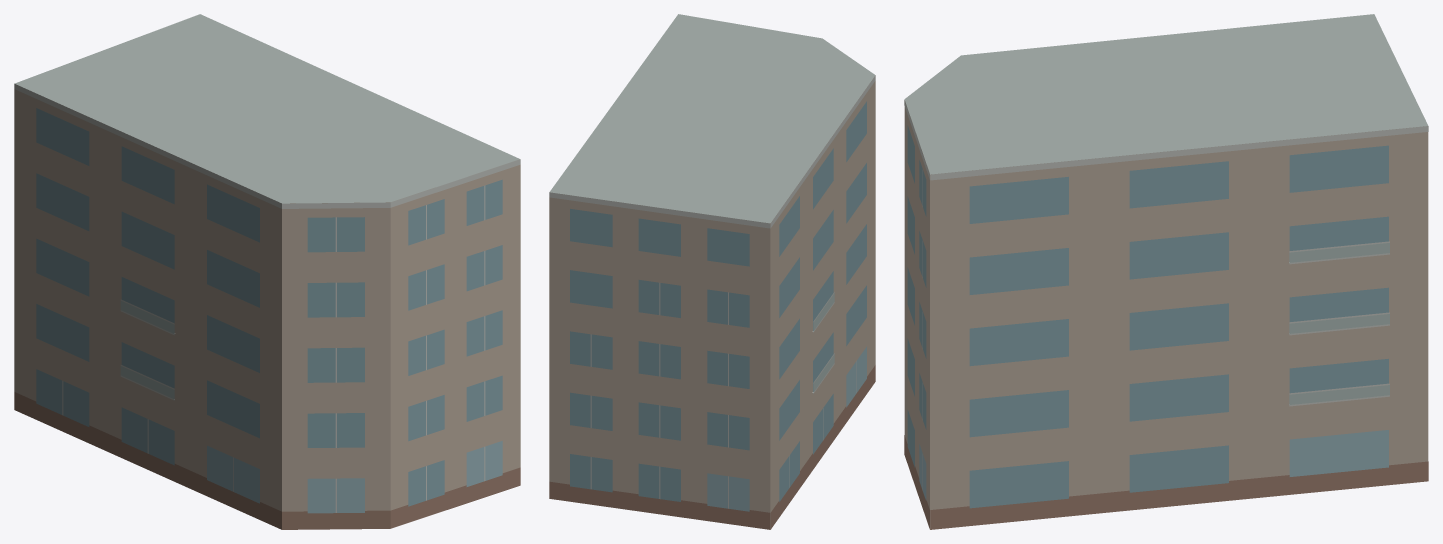
File: survey-upis-32715539.glb
3 views of the same model, side by side, from view 1: azimuth 30°, elevation 25°; view 2: azimuth 150°, elevation 25°; view 3: azimuth 270°, elevation 25° (orthographic). The views are drawn at different scales.
Parts seen in each view (by area): view 1: survey-upis-32715539.tmp; view 2: survey-upis-32715539.tmp; view 3: survey-upis-32715539.tmp.
Part boxes in pixels (bbox=[...]): survey-upis-32715539.tmp: bbox=[14, 14, 520, 529]; survey-upis-32715539.tmp: bbox=[549, 14, 875, 529]; survey-upis-32715539.tmp: bbox=[904, 14, 1428, 529].
Size of the model in its own units: 14.16 by 14.6 by 19.52.
